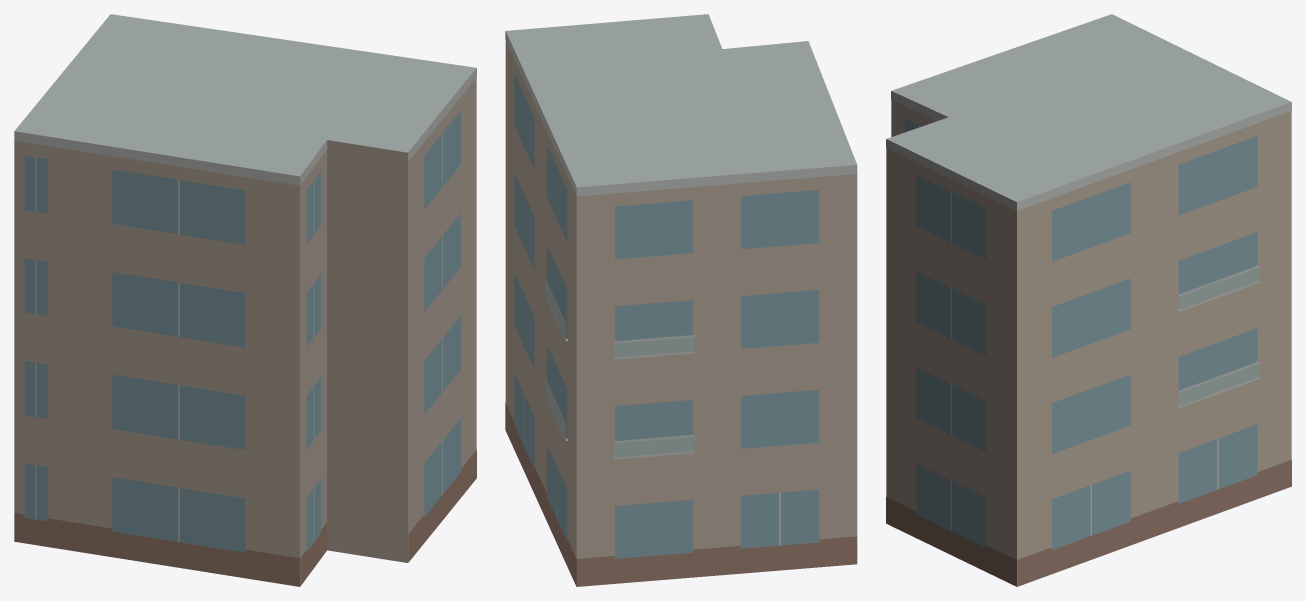
File: survey-upis-32892351.glb
The picture shows the model from 3 angles, left to right: view 1: azimuth 30°, elevation 25°; view 2: azimuth 150°, elevation 25°; view 3: azimuth 270°, elevation 25°; orthographic projection. The views are drawn at different scales.
Parts seen in each view (by area): view 1: survey-upis-32892351.tmp; view 2: survey-upis-32892351.tmp; view 3: survey-upis-32892351.tmp.
Part boxes in pixels (<box>): survey-upis-32892351.tmp: <box>14,14,476,586</box>; survey-upis-32892351.tmp: <box>505,14,857,586</box>; survey-upis-32892351.tmp: <box>886,14,1291,586</box>.
Bounding box in the file's own units: 11.23 × 10.69 × 10.23.
